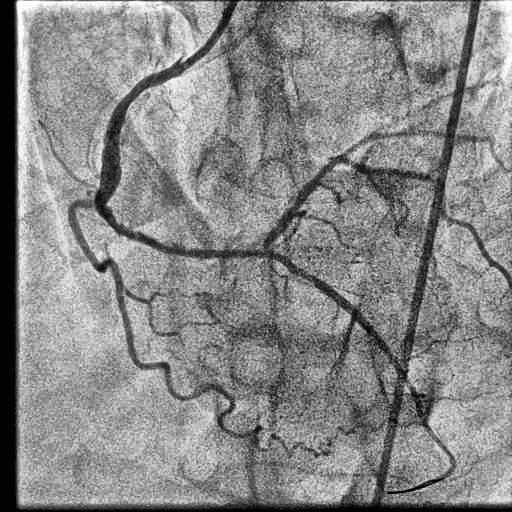pborca: (263, 155, 497, 267)
pda: (267, 250, 455, 493)
rca: (94, 62, 265, 258)
